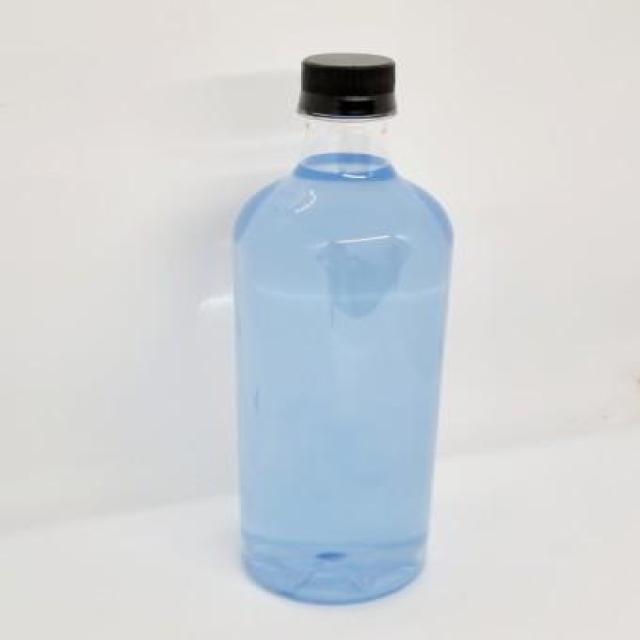bottle: (233, 54, 450, 599)
